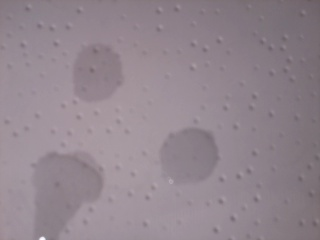Water_detected: (47, 155, 92, 231), (161, 128, 209, 174), (72, 39, 113, 89)
